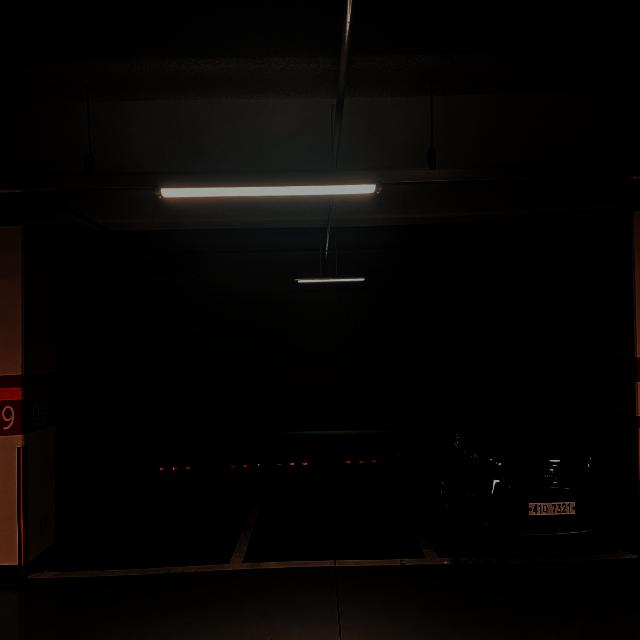empty: (29, 461, 262, 579), (246, 446, 452, 566)
occupied: (416, 340, 607, 566)
